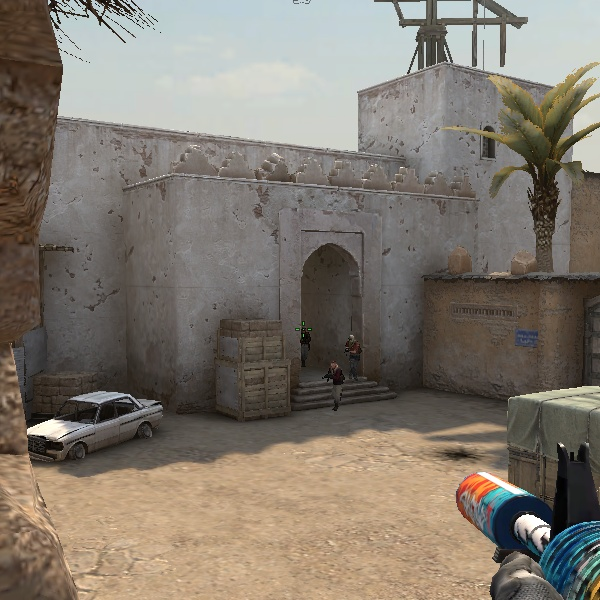t_body: (321, 360, 349, 414), (339, 331, 367, 382), (299, 325, 316, 370)
t_head: (345, 332, 358, 345), (327, 358, 339, 371), (300, 326, 310, 337)
